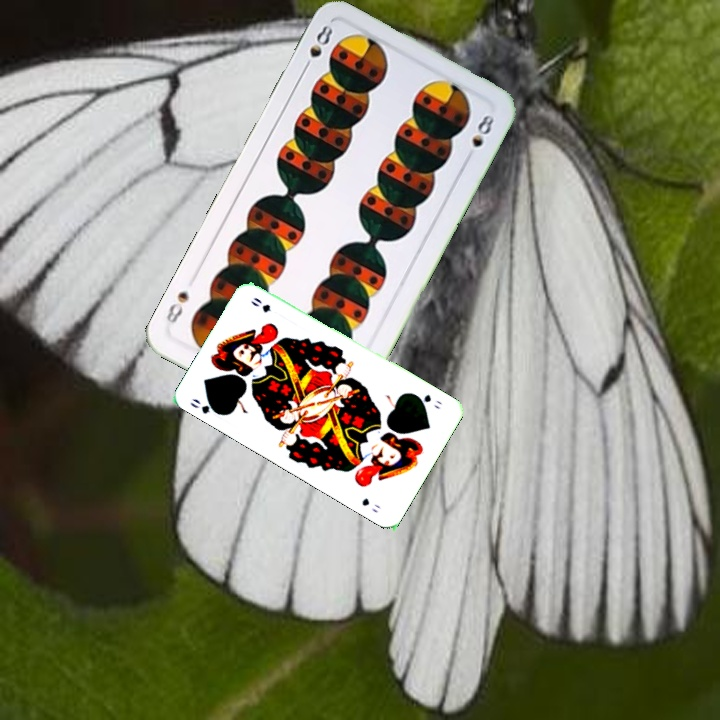GO: (185, 394, 225, 418), (410, 390, 444, 412)
S8: (298, 21, 336, 75)
